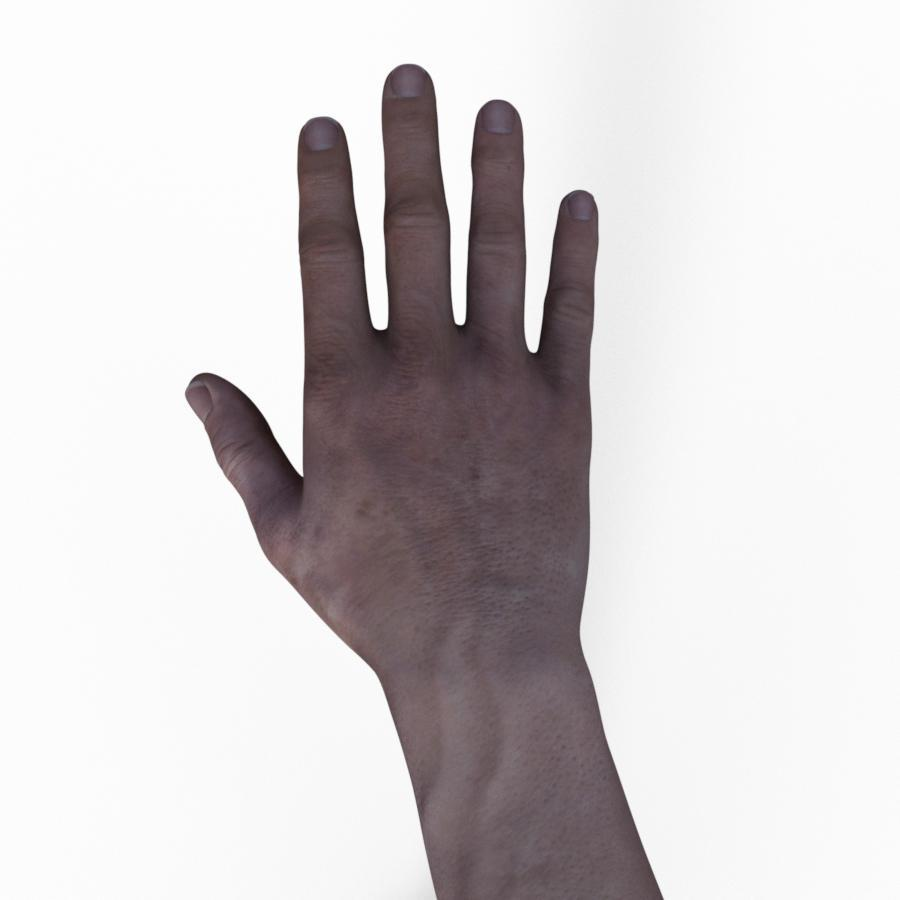paper: (189, 65, 665, 899)
